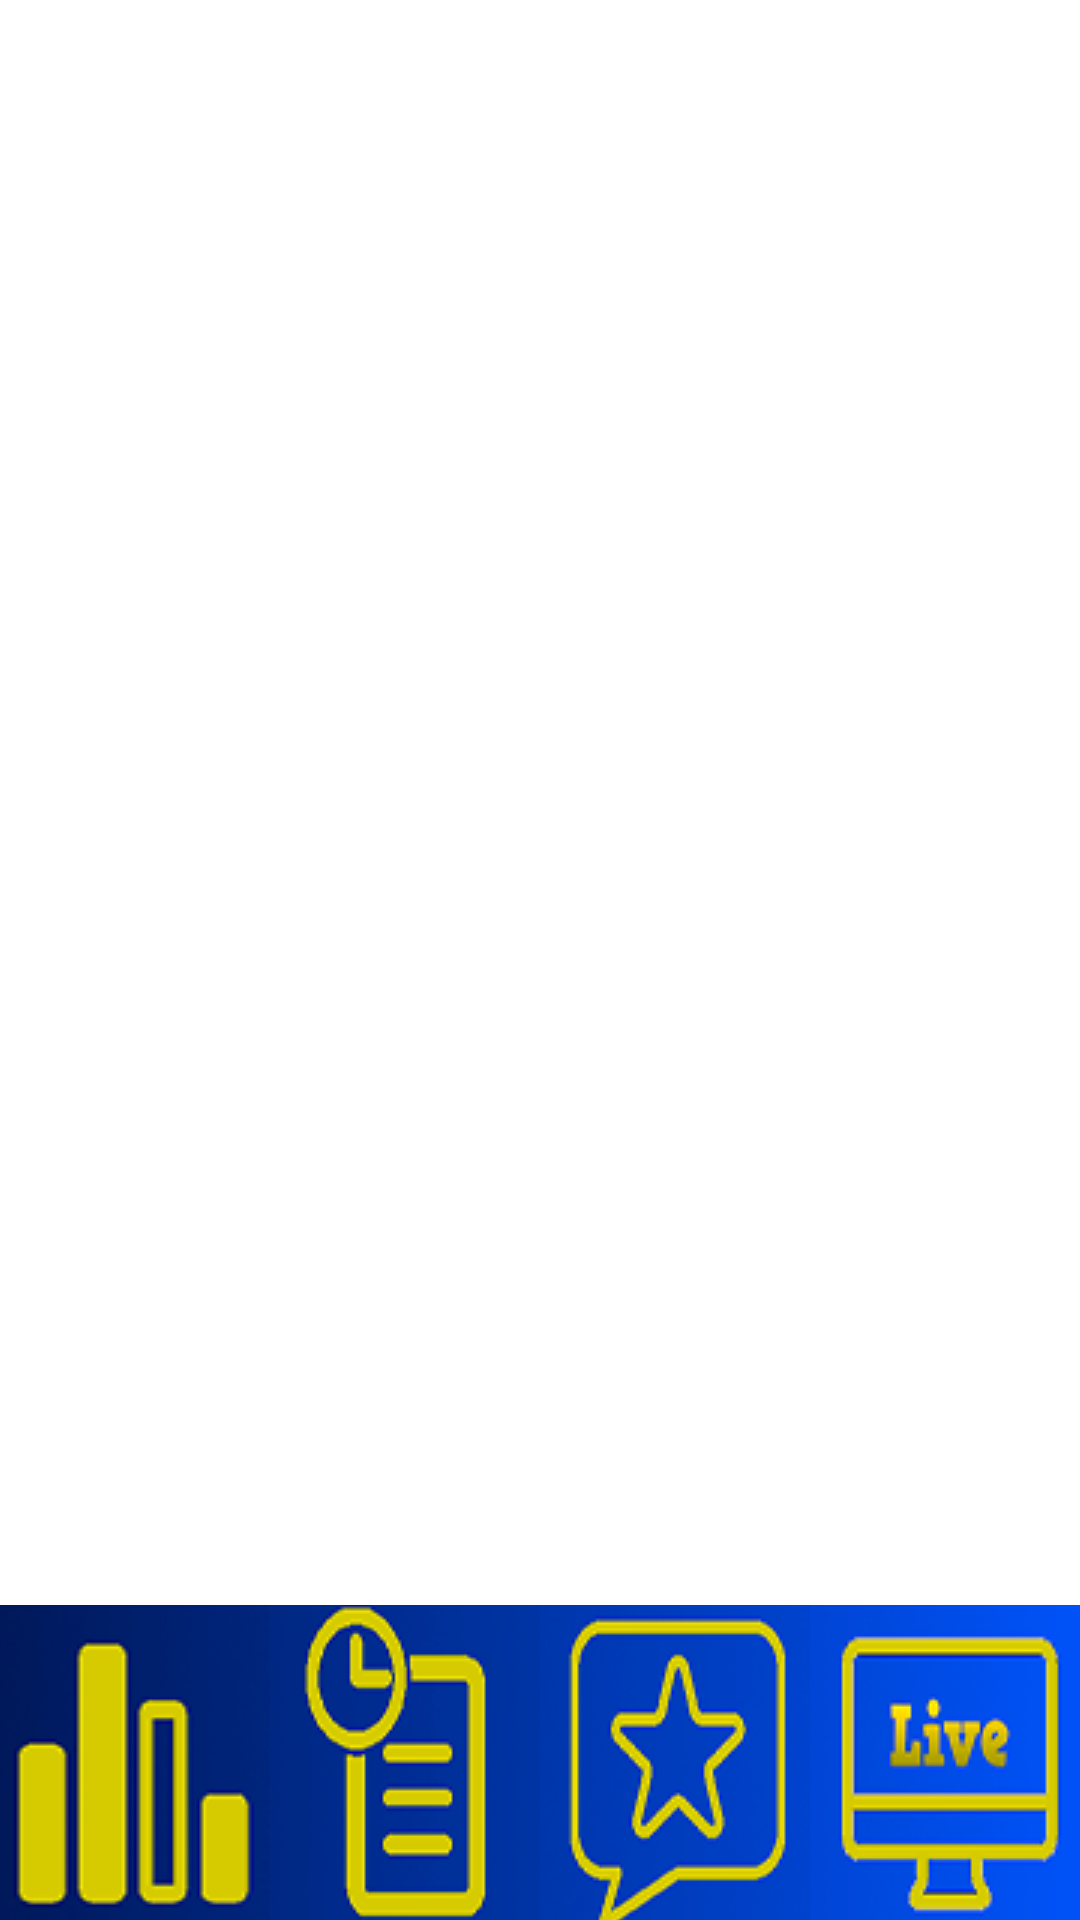

Named icons in this screenshot (1080w x 1920h) and their centers, point (x, y):
Button to show History Tab: point (405, 1762)
Button to show Recommendations Tab: point (675, 1762)
Button to show Stats Tab: point (135, 1762)
